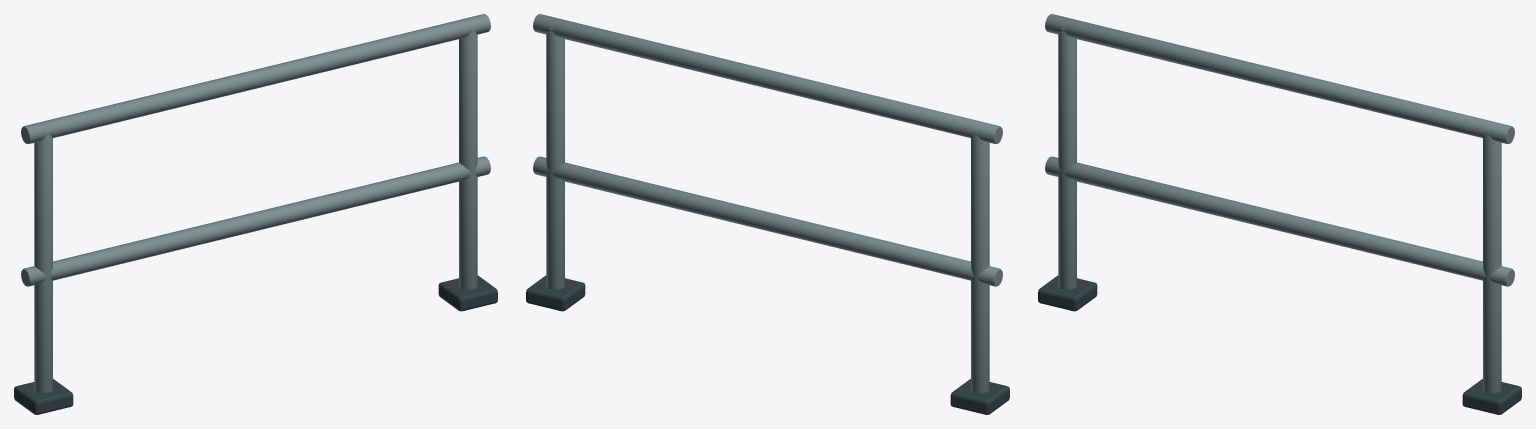
File: SM_MetalRailing_200.fbx
3 renders of one model, left to right at view 1: azimuth 30°, elevation 25°; view 2: azimuth 150°, elevation 25°; view 3: azimuth 330°, elevation 25°, orthographic.
Visible parts, largest first — view 1: SM_MetalRailing_200; view 2: SM_MetalRailing_200; view 3: SM_MetalRailing_200.
Part boxes in pixels (x1,y1,x2,y2): SM_MetalRailing_200: (14,14,497,414); SM_MetalRailing_200: (526,14,1009,414); SM_MetalRailing_200: (1038,14,1521,414).
Size of what is drawn, in the model's own units: 2.01 by 0.17 by 1.16.
